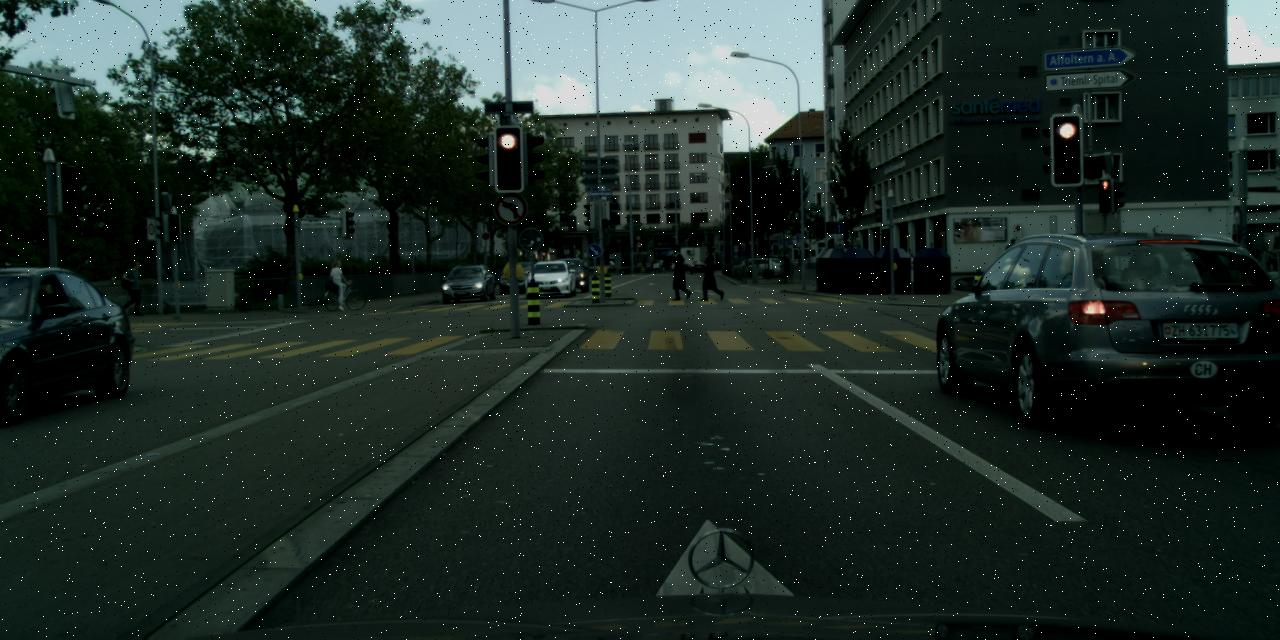ped: (121, 260, 143, 313), (669, 244, 690, 298), (700, 246, 721, 298), (1002, 237, 1021, 285), (331, 260, 348, 304), (902, 248, 914, 276), (654, 262, 661, 274)
